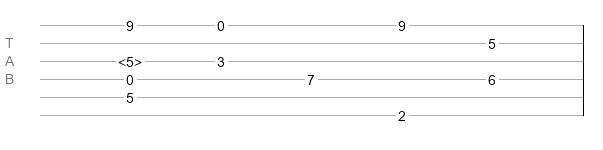0: (126, 72, 134, 82), (217, 18, 225, 28)
2: (398, 108, 406, 118)
3: (217, 54, 225, 64)
5: (126, 90, 134, 100), (488, 36, 496, 46)
6: (488, 72, 496, 82)
7: (307, 72, 315, 82)
9: (126, 18, 134, 28), (398, 18, 406, 28)
harmonic: (118, 54, 142, 64)
